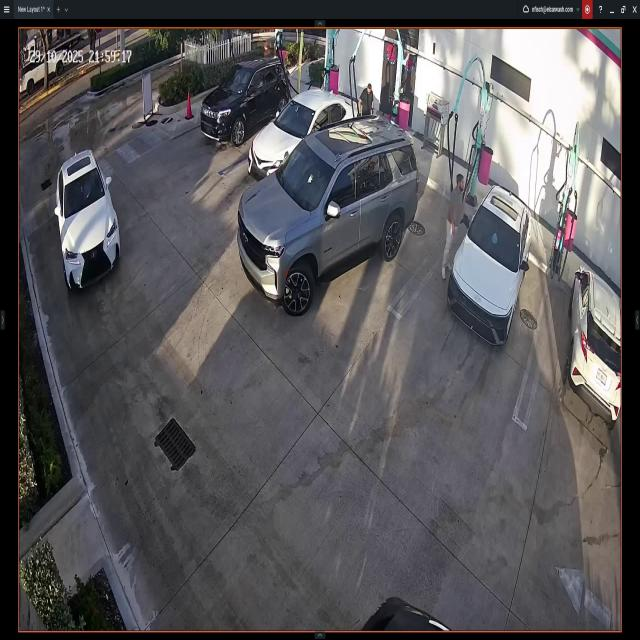Car: (238, 119, 418, 315), (450, 184, 533, 344), (248, 83, 362, 183), (56, 152, 120, 290), (569, 264, 621, 422), (201, 58, 288, 144)
